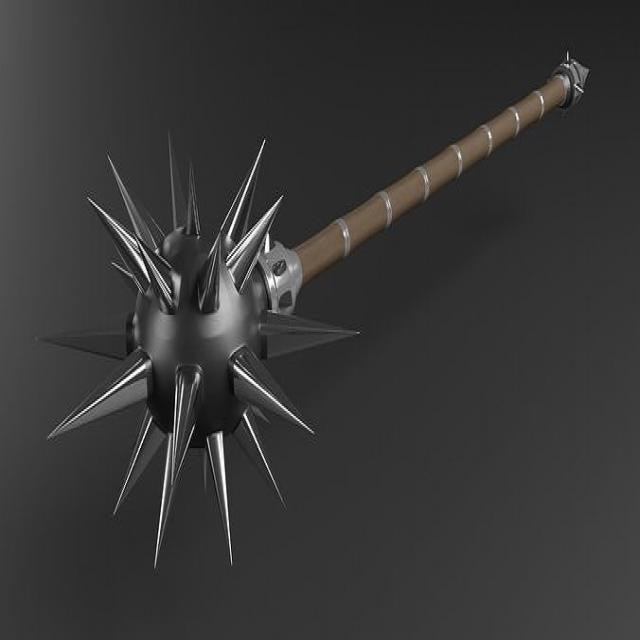mace: (40, 58, 590, 571)
